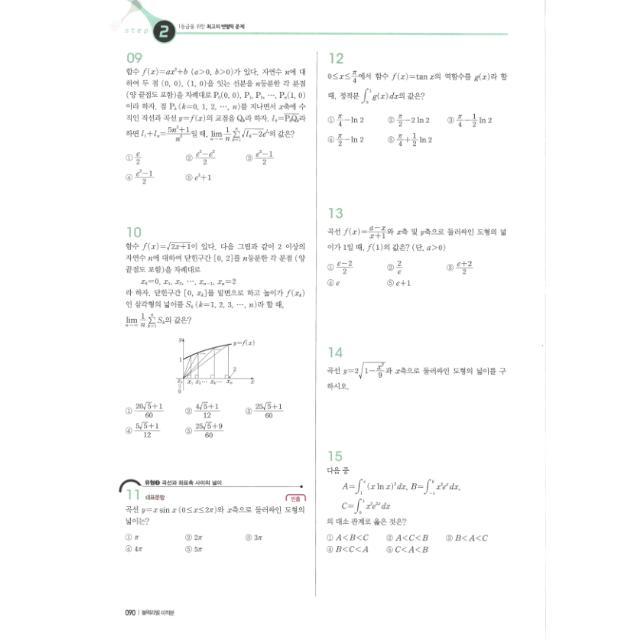multiple: (119, 220, 311, 444), (120, 48, 310, 188), (318, 444, 516, 558), (322, 46, 510, 150), (320, 202, 512, 294), (112, 471, 310, 557)
short: (319, 340, 513, 396)
